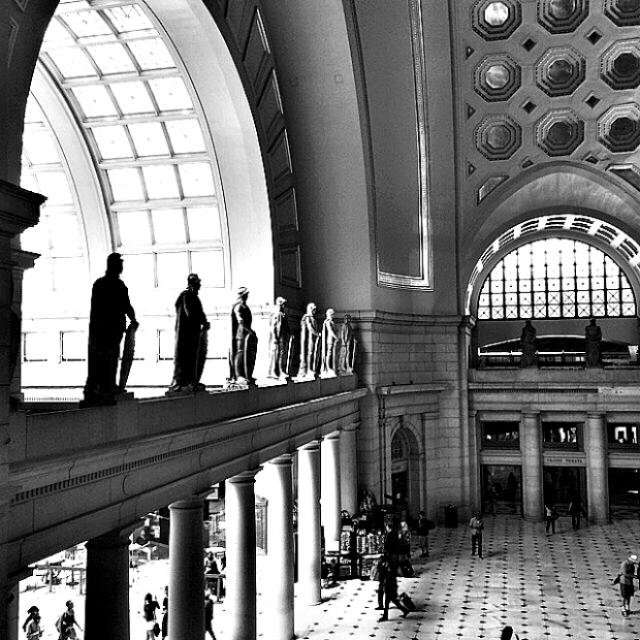body: (89, 247, 356, 402), (512, 316, 613, 373), (377, 564, 411, 622), (609, 552, 638, 618), (372, 553, 402, 610), (52, 598, 84, 639), (380, 522, 401, 580), (467, 509, 485, 560), (565, 491, 586, 532), (317, 556, 343, 586), (417, 509, 432, 558), (133, 528, 152, 564), (204, 590, 217, 640), (543, 496, 558, 537), (142, 592, 161, 622), (24, 613, 45, 639), (160, 585, 169, 640), (496, 622, 524, 639), (25, 614, 42, 639), (202, 550, 218, 574), (637, 554, 640, 592)
